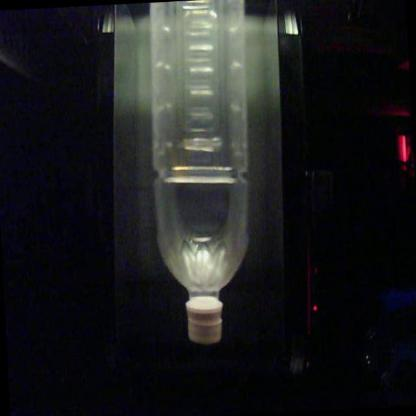Plastic Bottle: (150, 0, 248, 344)
